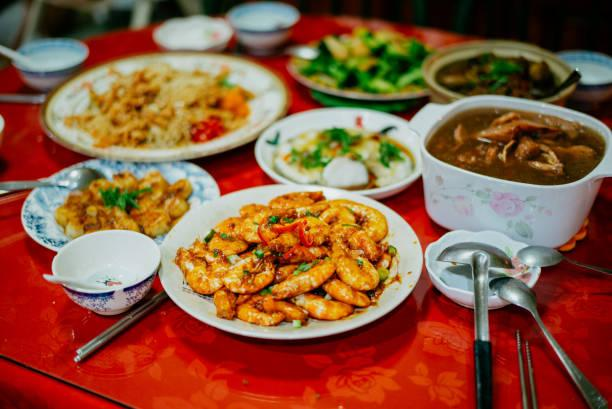Braised Crucian Carp: (160, 183, 421, 339), (415, 95, 611, 248), (43, 43, 292, 160), (22, 156, 215, 252), (258, 101, 428, 197)
